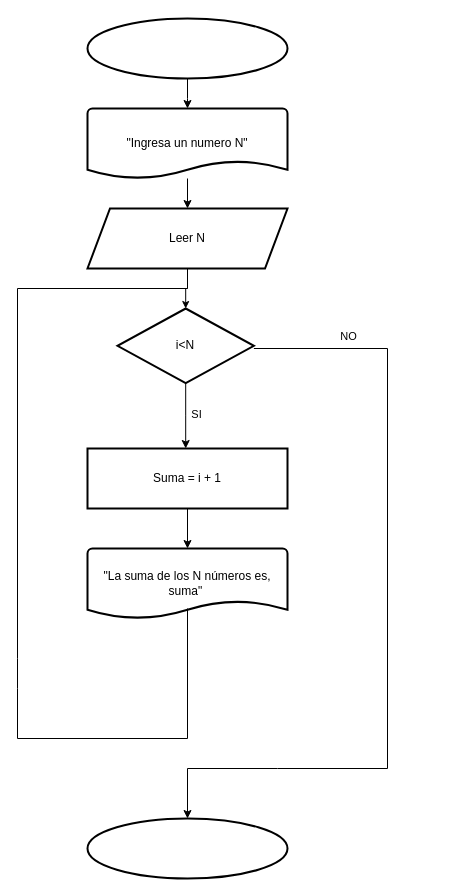
Some shapes in this 473 by 896 pixel diagram are drawn without their labels. Here are the shapes that lost their labels. From the top down, the centre of each, then its label:
[187,48]: Inicio
[187,848]: FIN
